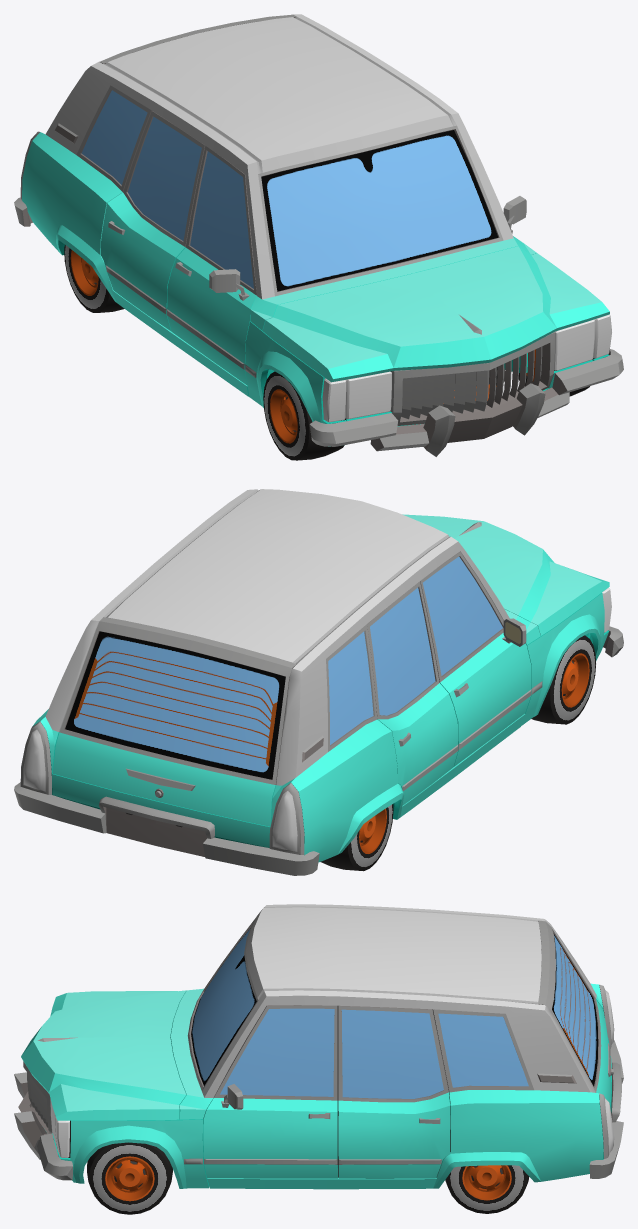
The model's file is Vehicle_06.fbx.
The picture shows the model from 3 angles, top to bottom: view 1: azimuth 30°, elevation 25°; view 2: azimuth 150°, elevation 25°; view 3: azimuth 270°, elevation 25°; orthographic projection. The views are drawn at different scales.
Parts seen in each view (by area): view 1: Stage_207, Stage_208, Stage_201, Stage_101, Stage_204, Stage_206, Stage_302, Stage_304, Stage_209; view 2: Stage_207, Stage_209, Stage_101, Stage_204, Stage_202, Stage_206, Stage_208, Stage_302, Stage_304, Stage_201; view 3: Stage_207, Stage_101, Stage_203, Stage_205, Stage_208, Stage_209, Stage_301, Stage_201, Stage_303, Stage_202.
Boxes of the visible parts, bbox=[...] form: Stage_207: bbox=[45, 14, 513, 299]; Stage_208: bbox=[262, 246, 609, 382]; Stage_201: bbox=[309, 314, 623, 456]; Stage_101: bbox=[22, 132, 609, 446]; Stage_204: bbox=[167, 146, 256, 385]; Stage_206: bbox=[101, 111, 205, 330]; Stage_302: bbox=[263, 371, 344, 460]; Stage_304: bbox=[64, 244, 124, 312]; Stage_209: bbox=[99, 14, 296, 63]; Stage_207: bbox=[45, 489, 509, 785]; Stage_209: bbox=[52, 617, 296, 826]; Stage_101: bbox=[32, 593, 609, 862]; Stage_204: bbox=[420, 551, 531, 766]; Stage_202: bbox=[14, 721, 319, 875]; Stage_206: bbox=[367, 581, 458, 805]; Stage_208: bbox=[402, 514, 609, 635]; Stage_302: bbox=[531, 635, 595, 724]; Stage_304: bbox=[320, 804, 393, 871]; Stage_201: bbox=[585, 587, 623, 657]; Stage_207: bbox=[187, 904, 596, 1098]; Stage_101: bbox=[57, 983, 611, 1189]; Stage_203: bbox=[203, 1005, 337, 1178]; Stage_205: bbox=[338, 1005, 450, 1178]; Stage_208: bbox=[21, 990, 186, 1120]; Stage_209: bbox=[538, 920, 613, 1104]; Stage_301: bbox=[87, 1142, 172, 1214]; Stage_201: bbox=[14, 1061, 72, 1180]; Stage_303: bbox=[445, 1165, 529, 1213]; Stage_202: bbox=[589, 984, 623, 1178].
Size of the model in its own units: 126 by 91.57 by 239.
